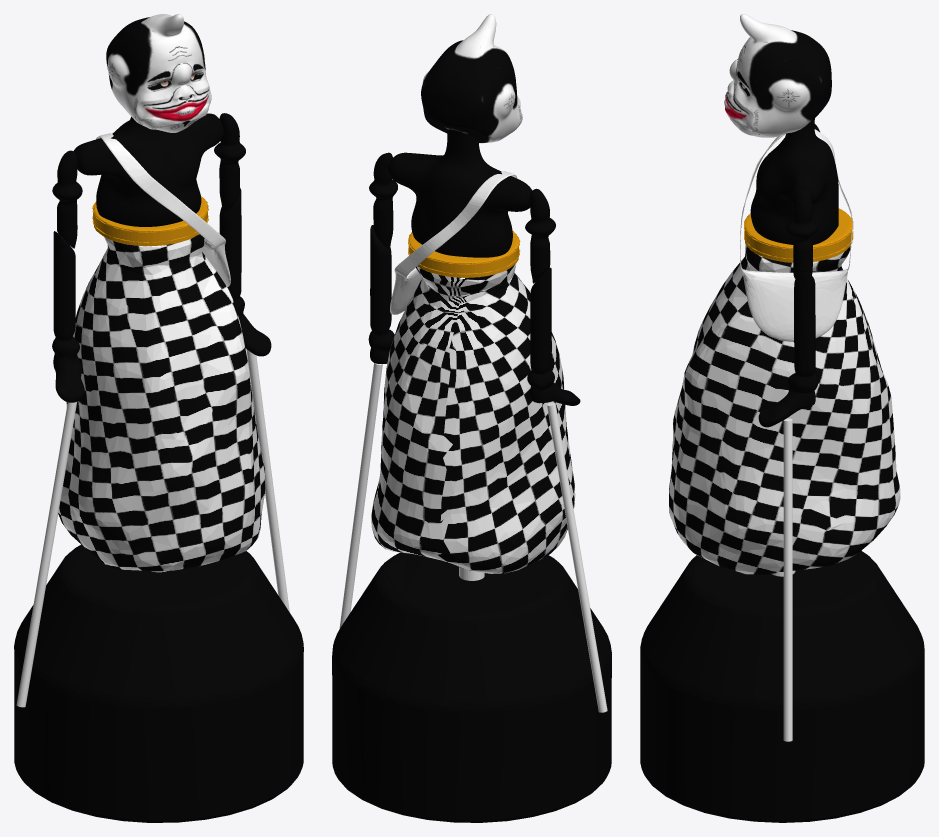
The model's file is semar..glb.
3 renders of one model, left to right at view 1: azimuth 30°, elevation 25°; view 2: azimuth 150°, elevation 25°; view 3: azimuth 270°, elevation 25°, orthographic. The views are drawn at different scales.
Parts seen in each view (by area): view 1: Block, Sarung, Sphere, Torso, Lower arm, Upper arm, Hand Stasis R, Plane, Hand Stasis L, Cylinder.002; view 2: Block, Sarung, Torso, Sphere, Lower arm, Upper arm, Hand Stasis R, Plane, Hand Stasis L, Cylinder.002; view 3: Block, Sarung, Sphere, Torso, Plane, Lower arm, Hand Stasis L, Cylinder.002, Upper arm.
Part boxes in pixels (x1,y1,x2,y2): Block: (14,544,303,822); Sarung: (58,234,265,571); Sphere: (106,14,211,132); Torso: (74,113,223,226); Lower arm: (52,188,271,402); Upper arm: (52,113,245,248); Hand Stasis R: (16,402,76,707); Plane: (96,133,230,286); Hand Stasis L: (246,349,289,612); Cylinder.002: (92,196,208,246); Block: (332,552,611,822); Sarung: (371,263,575,573); Torso: (388,129,532,257); Sphere: (421,14,522,143); Lower arm: (368,225,580,405); Upper arm: (369,152,555,283); Hand Stasis R: (547,402,607,712); Plane: (390,171,517,314); Hand Stasis L: (339,363,382,629); Cylinder.002: (408,231,520,277); Block: (640,550,924,822); Sarung: (669,244,900,574); Sphere: (724,14,831,137); Torso: (750,118,838,244); Plane: (740,129,852,341); Lower arm: (758,272,818,427); Hand Stasis L: (783,418,792,741); Cylinder.002: (744,208,853,262); Upper arm: (786,188,818,278).
Bounding box in the file's own units: 4.04 × 10.64 × 3.65.
Materials: 6 (2 with a texture image).
